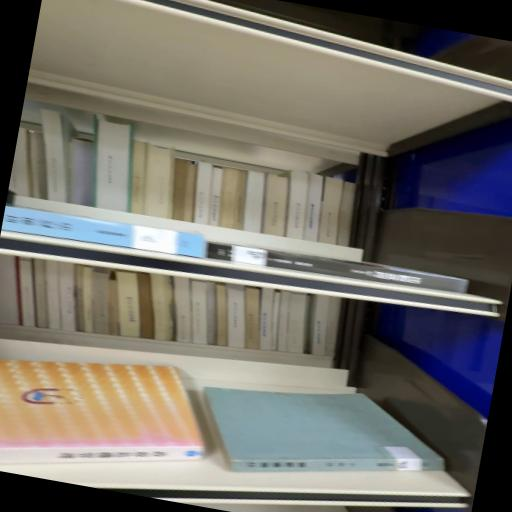flat: (1, 360, 205, 464), (204, 388, 444, 473), (207, 244, 469, 294), (2, 206, 207, 258)
